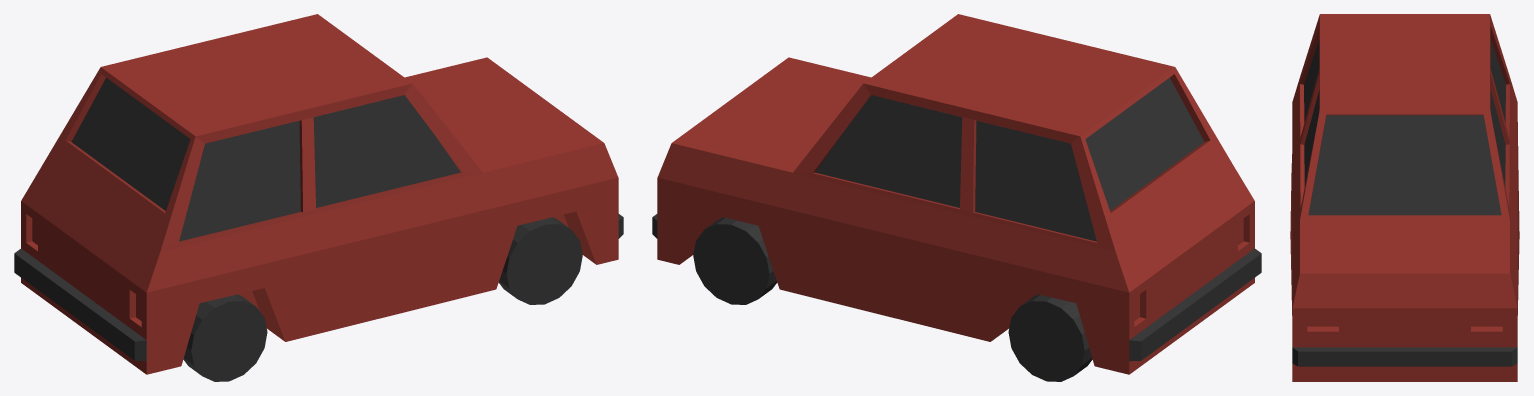
File: car.fbx
3 views of the same model, side by side, from view 1: azimuth 30°, elevation 25°; view 2: azimuth 150°, elevation 25°; view 3: azimuth 270°, elevation 25° (orthographic). The views are drawn at different scales.
Parts seen in each view (by area): view 1: Cube, Cube.001, Cylinder.001, Cylinder.000; view 2: Cube, Cube.001, Cylinder.002, Cylinder.004; view 3: Cube, Cube.001.
Boxes of the visible parts, <box> form: Cube: <box>21,14,618,374</box>; Cube.001: <box>14,77,623,361</box>; Cylinder.001: <box>183,294,267,381</box>; Cylinder.000: <box>498,217,582,304</box>; Cube: <box>657,14,1254,374</box>; Cube.001: <box>652,77,1261,361</box>; Cylinder.002: <box>1008,294,1092,381</box>; Cylinder.004: <box>693,217,777,304</box>; Cube: <box>1290,14,1519,381</box>; Cube.001: <box>1292,40,1517,366</box>.
Size of the model in its own units: 770 by 360 by 348.
